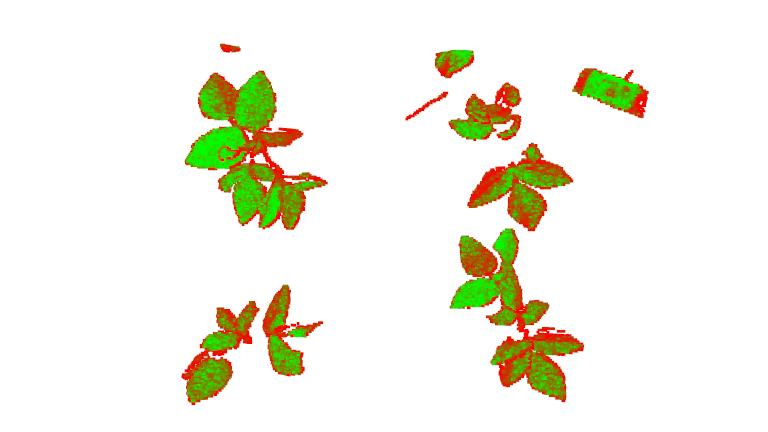mungbean: (430, 48, 579, 232), (443, 231, 588, 410), (180, 59, 330, 231), (181, 284, 328, 410)
